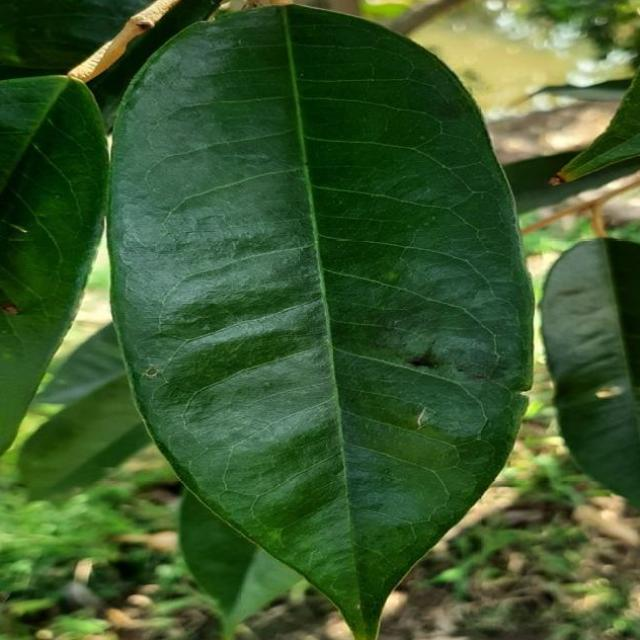No Disease: (106, 7, 542, 640)
